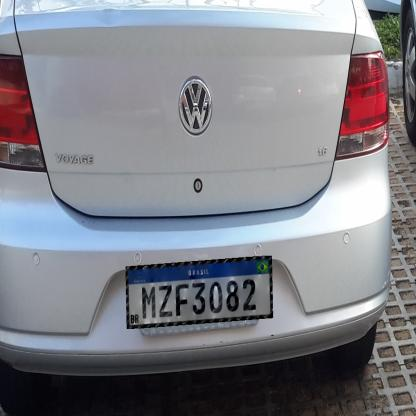PlacaM: (126, 256, 273, 329)
